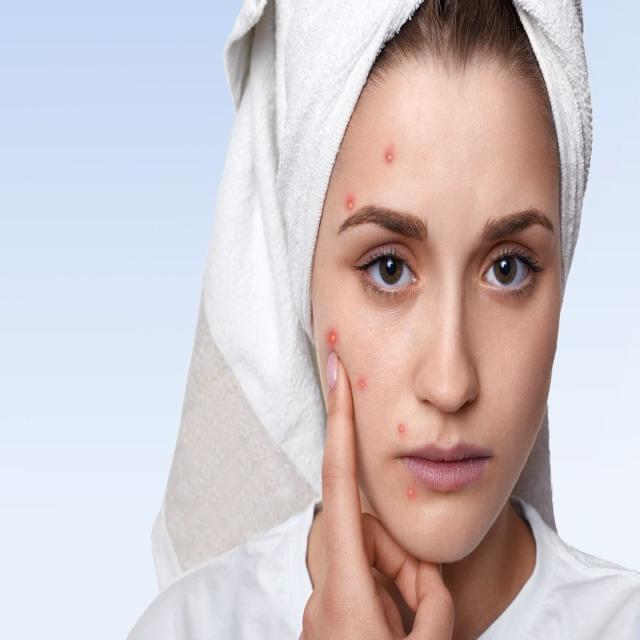Oily-Skin: (420, 238, 500, 436)
